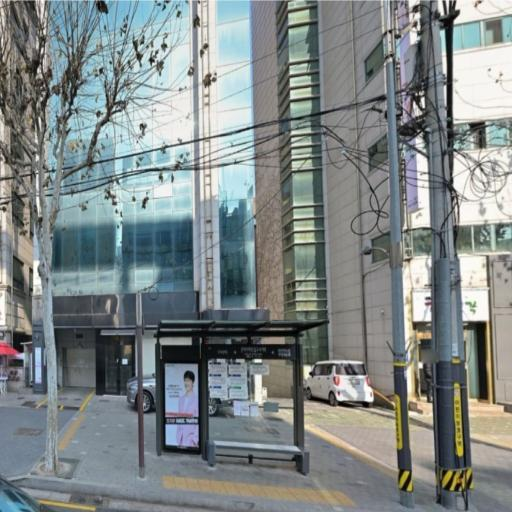bicycle: (154, 320, 326, 475)
